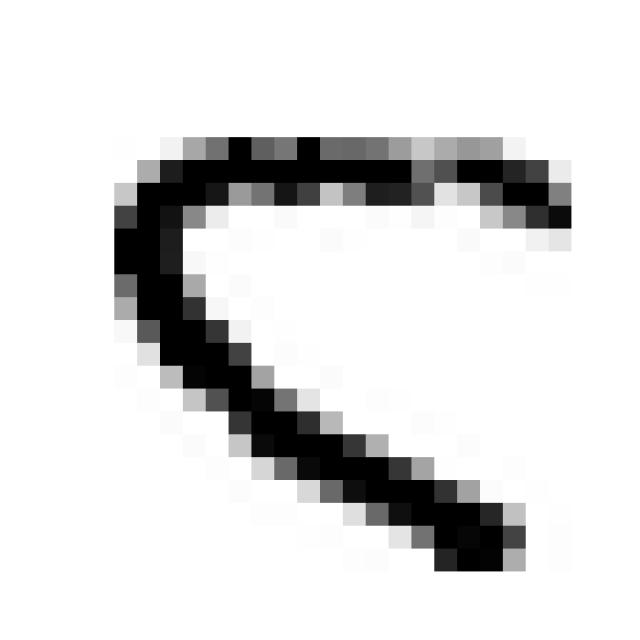2 -two-: (91, 108, 594, 595)
